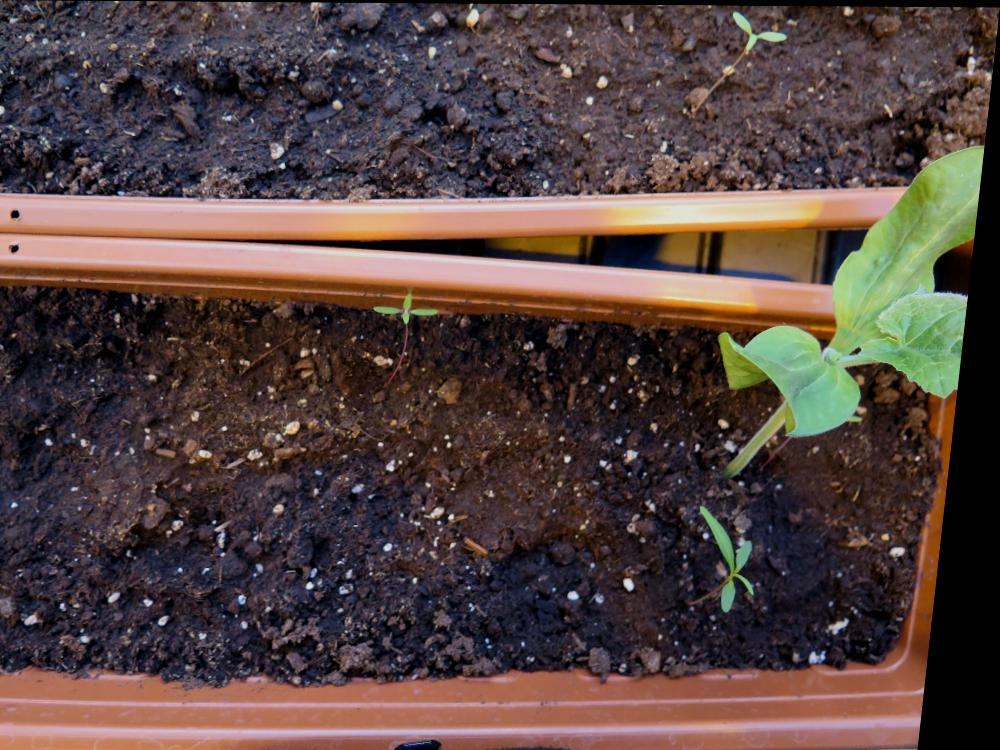weed: (700, 501, 777, 612), (728, 8, 790, 50), (377, 289, 447, 323)
